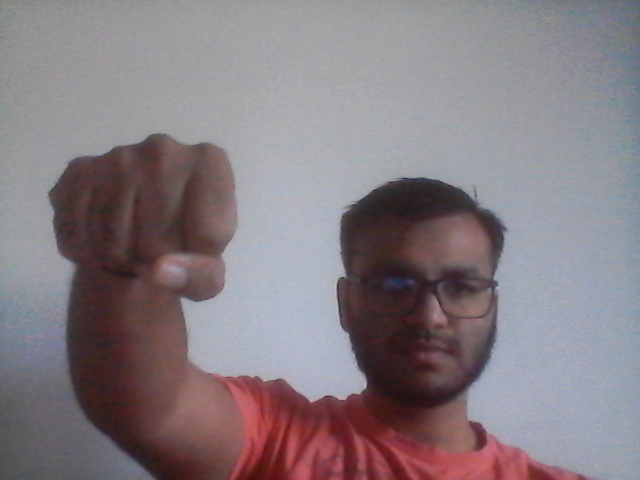Thanks: (43, 131, 251, 306)
